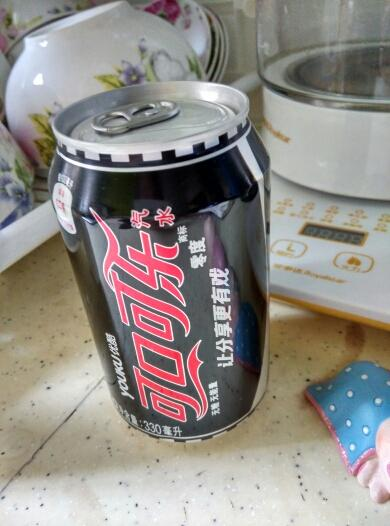coke_zero: (44, 78, 280, 447)
